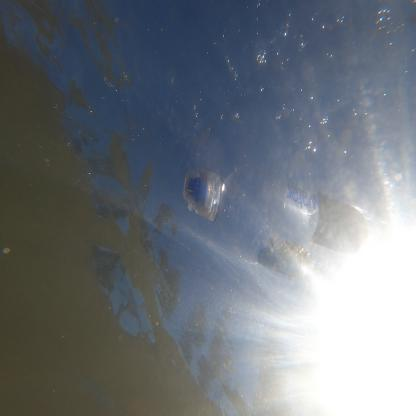Rác: (180, 99, 415, 322)
